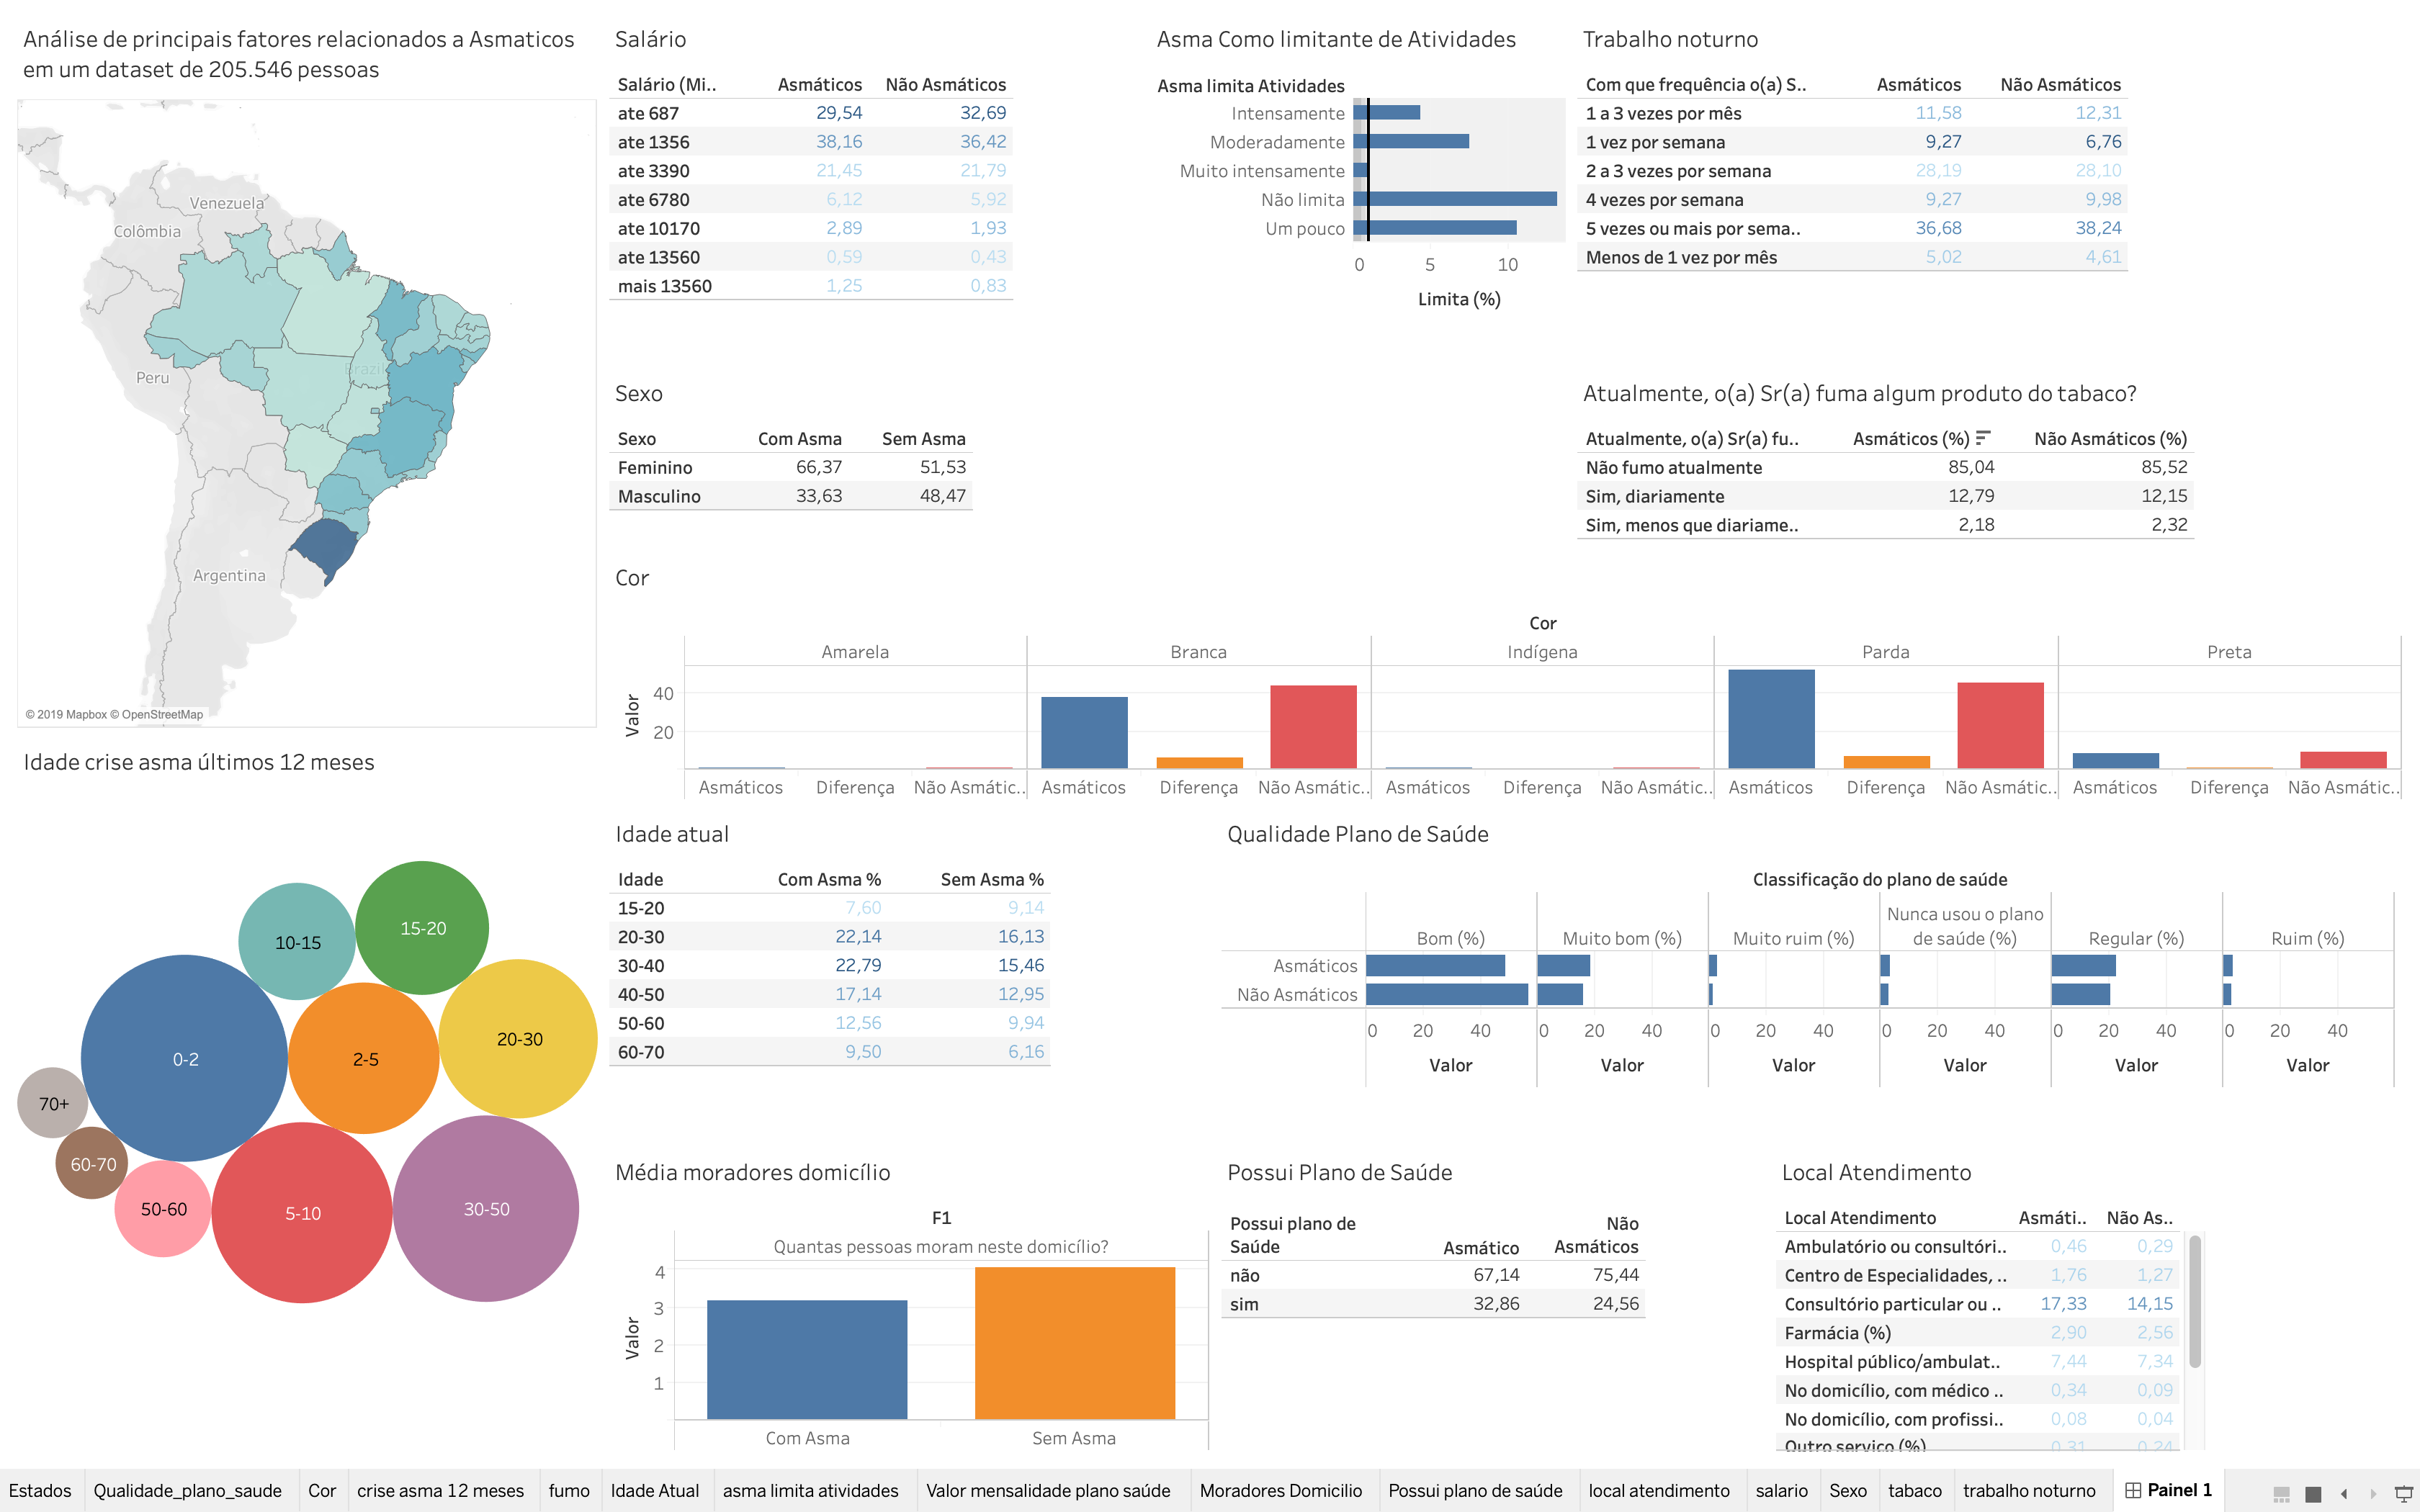

The page's visual inventory and layout, read from the dashboard file:
{"tool":"tableau","page":{"name":"Painel 1","canvas":[1000,1000],"units":"permille","ordinal":0},"visuals":[{"type":"worksheet","title":"Estados","mark":"Multipolygon","box":[5.5,9.8,244.4,490.2]},{"type":"worksheet","title":"salario","mark":"Automatic","rows":["salário (minimo 687 em 2013)"],"box":[249.8,9.8,223.3,239.9]},{"type":"worksheet","title":"asma limita atividades","mark":"Automatic","rows":["F1"],"cols":["F2"],"box":[473.1,9.8,176.3,364.7]},{"type":"worksheet","title":"trabalho noturno","mark":"Automatic","box":[649.4,9.8,345.1,239.9]},{"type":"worksheet","title":"Sexo","mark":"Automatic","rows":["F1"],"box":[249.8,249.7,223.3,124.9]},{"type":"worksheet","title":"fumo","mark":"Automatic","rows":["Atualmente, o(a) Sr(a) fuma algum produto do tabaco?"],"box":[649.4,249.7,345.1,124.9]},{"type":"worksheet","title":"Cor","mark":"Automatic","cols":["Cor"],"box":[249.8,374.5,744.7,173.8]},{"type":"worksheet","title":"crise asma 12 meses","mark":"Circle","box":[5.5,500,244.4,490.2]},{"type":"worksheet","title":"Idade Atual","mark":"Automatic","rows":["idade"],"box":[249.8,548.3,252.6,230.1]},{"type":"worksheet","title":"Qualidade_plano_saude","mark":"Automatic","cols":["Classificação do plano de saúde"],"box":[502.4,548.3,492.2,230.1]},{"type":"worksheet","title":"Moradores Domicilio","mark":"Automatic","cols":["F1"],"box":[249.8,778.4,252.8,211.8]},{"type":"worksheet","title":"Possui plano de saúde","mark":"Automatic","rows":["Possui plano de Saúde"],"box":[502.7,778.4,228.4,211.8]},{"type":"worksheet","title":"local atendimento","mark":"Automatic","rows":["F1"],"box":[731.1,778.4,263.5,211.8]}]}

Visuals, with their boxes on the dashboard's canvas, which has no fixed pixel size, in thousandths of its width and height (x1, y1, x2, y2). These are canvas units, not pixel positions in the 2420x1512 screenshot, which may show the page scaled, cropped or inside an application window:
"Estados" worksheet (Multipolygon marks): {"x1": 6, "y1": 10, "x2": 250, "y2": 500}
"salario" worksheet: {"x1": 250, "y1": 10, "x2": 473, "y2": 250}
"asma limita atividades" worksheet: {"x1": 473, "y1": 10, "x2": 649, "y2": 374}
"trabalho noturno" worksheet: {"x1": 649, "y1": 10, "x2": 994, "y2": 250}
"Sexo" worksheet: {"x1": 250, "y1": 250, "x2": 473, "y2": 375}
"fumo" worksheet: {"x1": 649, "y1": 250, "x2": 994, "y2": 375}
"Cor" worksheet: {"x1": 250, "y1": 374, "x2": 994, "y2": 548}
"crise asma 12 meses" worksheet (Circle marks): {"x1": 6, "y1": 500, "x2": 250, "y2": 990}
"Idade Atual" worksheet: {"x1": 250, "y1": 548, "x2": 502, "y2": 778}
"Qualidade_plano_saude" worksheet: {"x1": 502, "y1": 548, "x2": 995, "y2": 778}
"Moradores Domicilio" worksheet: {"x1": 250, "y1": 778, "x2": 503, "y2": 990}
"Possui plano de saúde" worksheet: {"x1": 503, "y1": 778, "x2": 731, "y2": 990}
"local atendimento" worksheet: {"x1": 731, "y1": 778, "x2": 995, "y2": 990}
